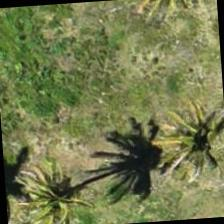Kelapa_Sawit: (3, 150, 91, 223)
